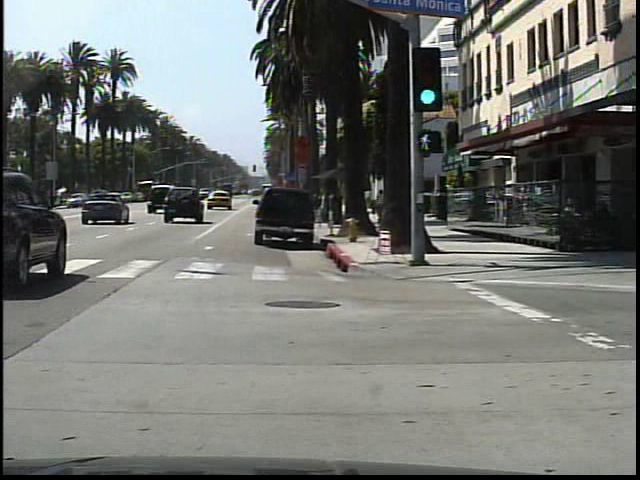person: (375, 185, 388, 227)
